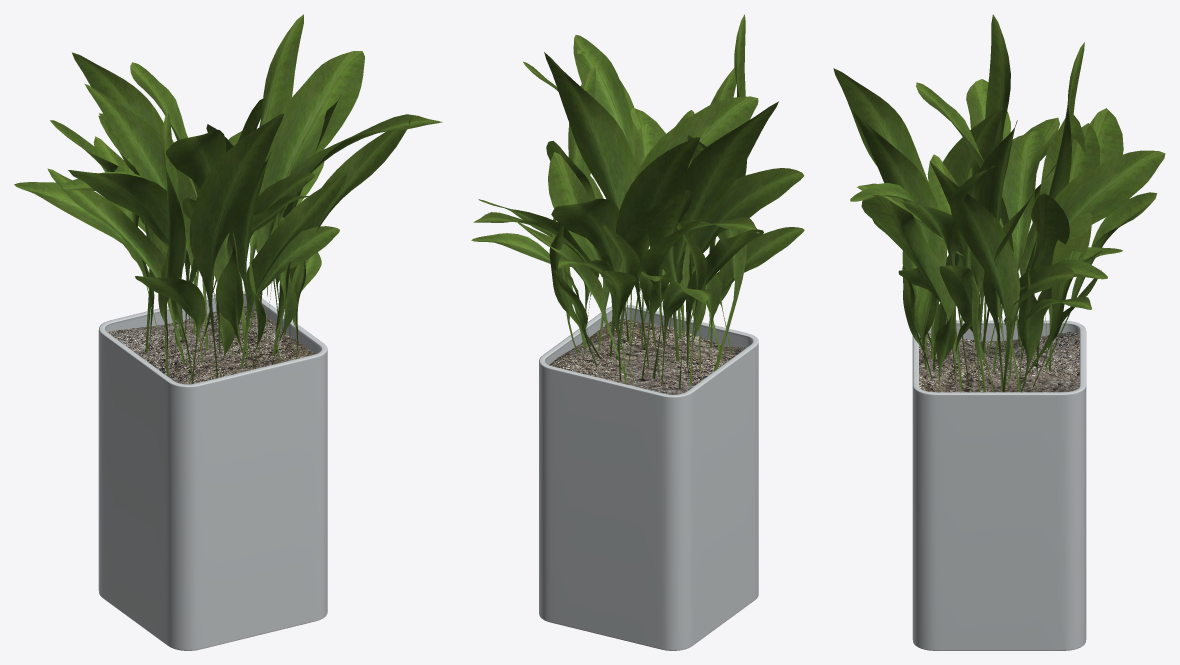
Rendered from Tree S3.fbx.
The picture shows the model from 3 angles, left to right: view 1: azimuth 30°, elevation 25°; view 2: azimuth 150°, elevation 25°; view 3: azimuth 270°, elevation 25°; orthographic projection. The views are drawn at different scales.
Parts seen in each view (by area): view 1: grt_8_1, grt_8_4, grt_8_2; view 2: grt_8_1, grt_8_4, grt_8_2; view 3: grt_8_4, grt_8_1, grt_8_2.
Boxes of the visible parts, box(x1,y1,x2,y2) form: grt_8_1: box(98, 291, 327, 650); grt_8_4: box(14, 14, 442, 384); grt_8_2: box(108, 306, 315, 384); grt_8_1: box(539, 304, 758, 650); grt_8_4: box(471, 14, 804, 388); grt_8_2: box(549, 319, 746, 394); grt_8_4: box(833, 14, 1165, 392); grt_8_1: box(912, 320, 1086, 650); grt_8_2: box(919, 332, 1079, 392).
Size of the model in its own units: 672 by 1172 by 651.
